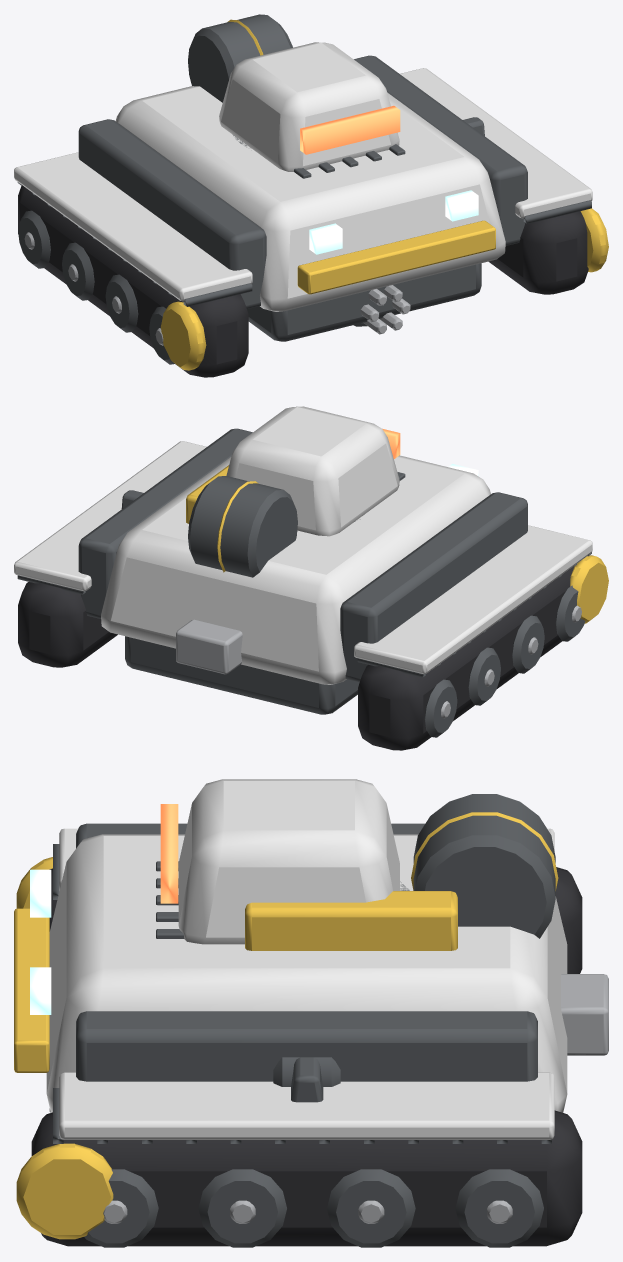
The model's file is auto.glb.
The picture shows the model from 3 angles, top to bottom: view 1: azimuth 30°, elevation 25°; view 2: azimuth 150°, elevation 25°; view 3: azimuth 270°, elevation 25°; orthographic projection. The views are drawn at different scales.
Parts seen in each view (by area): view 1: Hull, Turret, Barrel; view 2: Hull, Turret; view 3: Hull, Turret, LegLower, LegUpper.
Boxes of the visible parts, x1=… form: Hull: x1=14, y1=14, x2=608, y2=377; Turret: x1=219, y1=42, x2=400, y2=171; Barrel: x1=353, y1=285, x2=410, y2=334; Hull: x1=14, y1=428, x2=608, y2=750; Turret: x1=186, y1=406, x2=400, y2=536; Hull: x1=14, y1=794, x2=608, y2=1247; Turret: x1=160, y1=779, x2=457, y2=950; LegLower: x1=291, y1=1057, x2=323, y2=1102; LegUpper: x1=273, y1=1057, x2=340, y2=1086.
Bounding box in the file's own units: 0.802 × 0.395 × 0.67.
